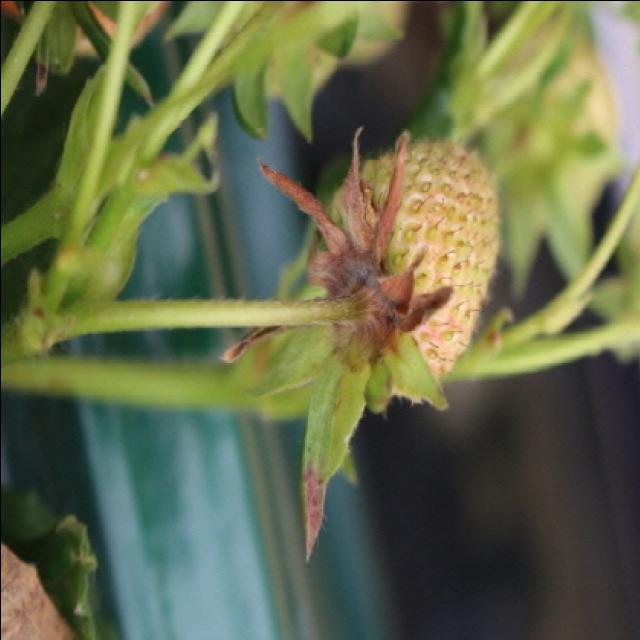Gray Mold: (219, 126, 455, 373)
